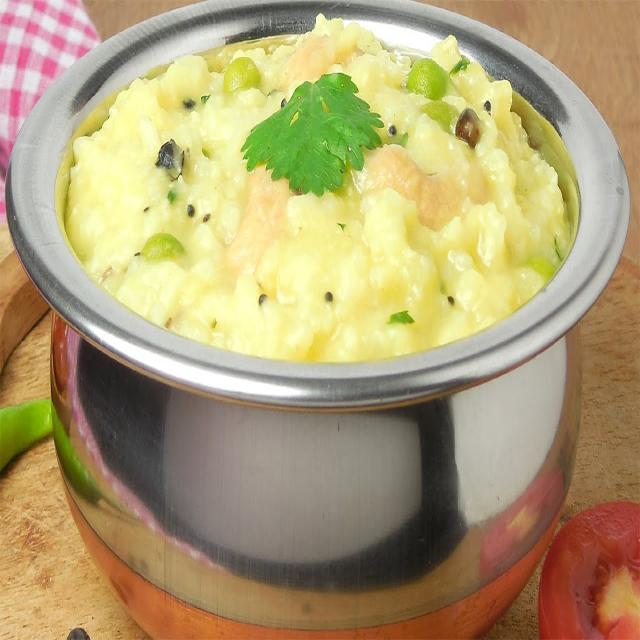khara pongal: (59, 0, 581, 380)
